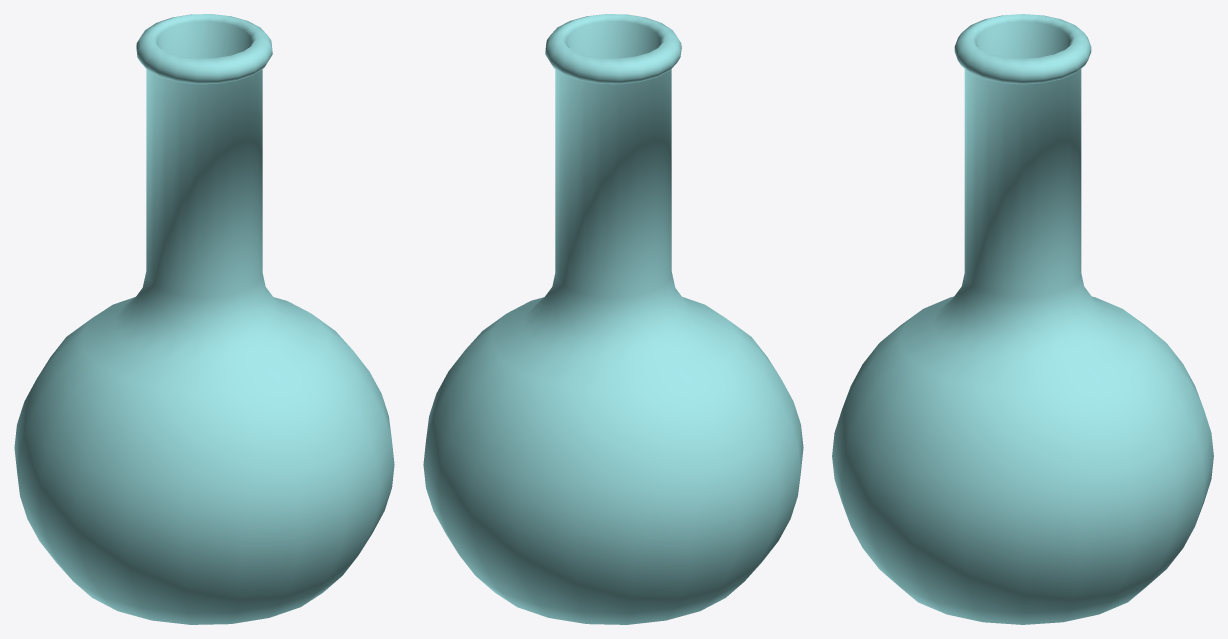
File: Flask.fbx
The picture shows the model from 3 angles, left to right: view 1: azimuth 30°, elevation 25°; view 2: azimuth 150°, elevation 25°; view 3: azimuth 270°, elevation 25°; orthographic projection.
Parts seen in each view (by area): view 1: Flask_04; view 2: Flask_04; view 3: Flask_04.
Part boxes in pixels (<box>): Flask_04: <box>14,14,394,624</box>; Flask_04: <box>423,14,803,624</box>; Flask_04: <box>832,14,1213,624</box>.
Size of the model in its own units: 0.2412 by 0.3737 by 0.2412.
